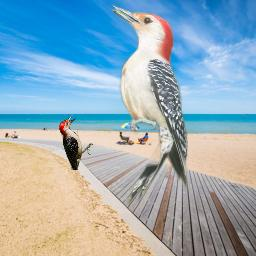Woodpecker: (107, 4, 188, 205), (59, 114, 96, 170)
